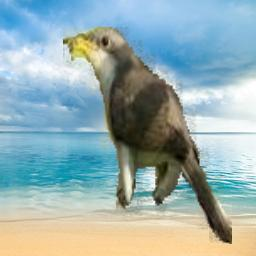Cuckoo: (63, 27, 232, 244)
